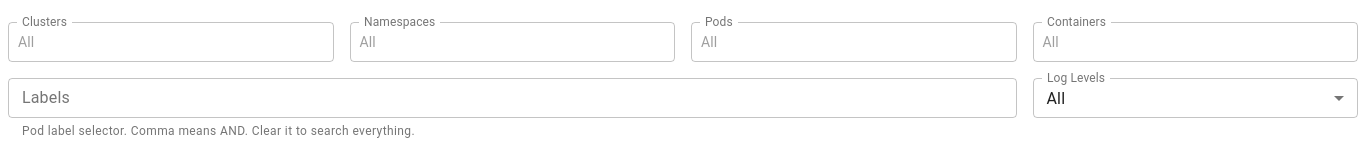
Test: PlatformLogsFilterRow label validation › explains why the field is unhappy, in place of the hint
In the field labelled "Labels": (512, 98) [8,78,1016,118], type "openchoreo.dev/plane"
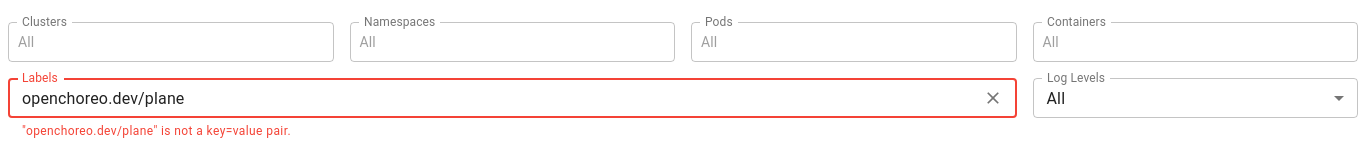
Check: the text "\"openchoreo.dev/plane\" is not a key=value pair." is shown, box [22,124,291,138]
Check: the text "Comma means AND" is gone
